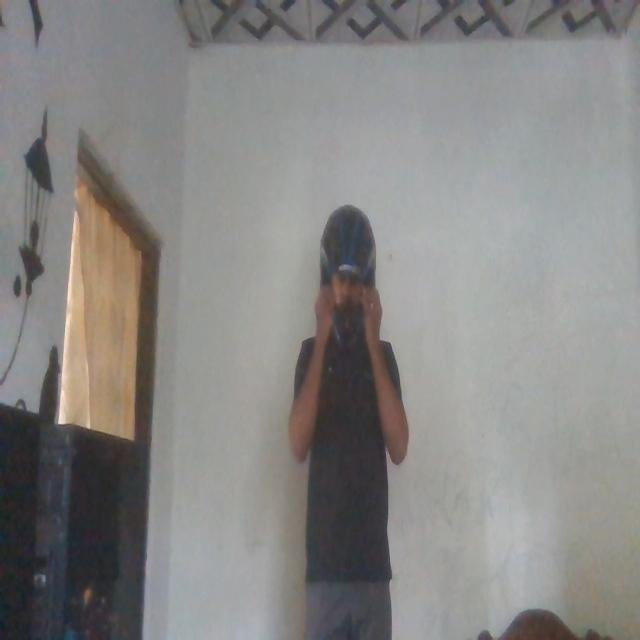Helmet_Wearer: (307, 201, 392, 373)
Person: (288, 202, 418, 640)
